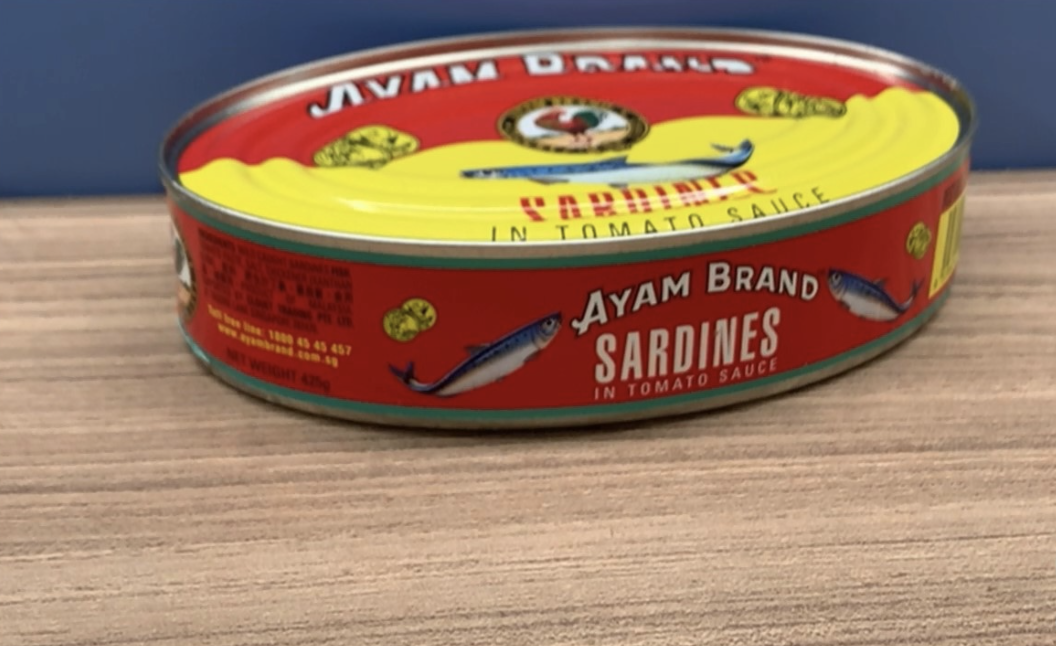sardines_450g: (228, 59, 923, 399)
